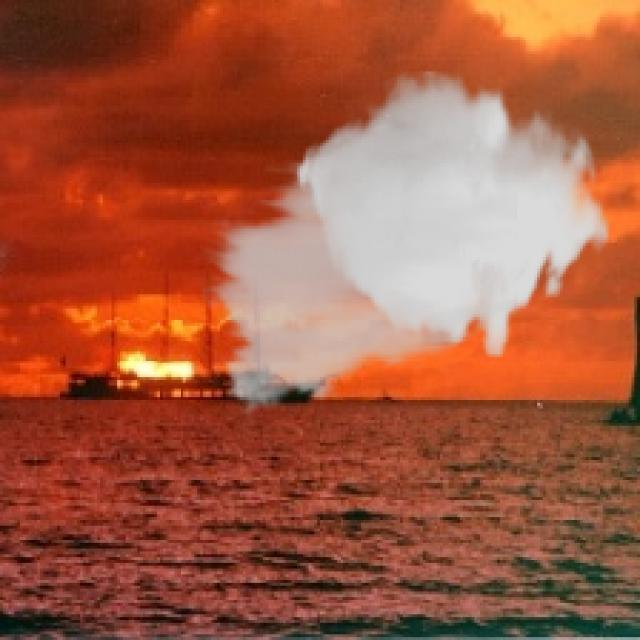Smoke: (199, 71, 612, 423)
